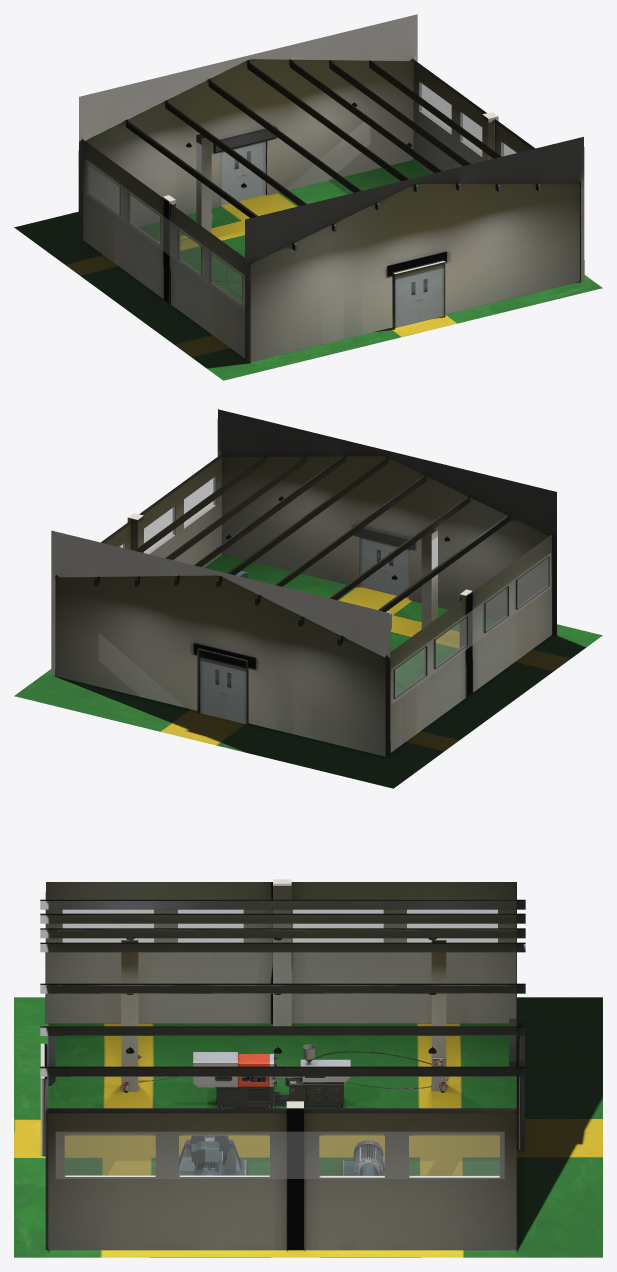
The model's file is S5_Machinery_Optimize.fbx.
The picture shows the model from 3 angles, top to bottom: view 1: azimuth 30°, elevation 25°; view 2: azimuth 150°, elevation 25°; view 3: azimuth 270°, elevation 25°; orthographic projection. The views are drawn at different scales.
Parts seen in each view (by area): view 1: FactoryInside, Floor, Glass; view 2: FactoryInside, Floor, Glass; view 3: FactoryInside, Floor, Glass, Modeling_Bench_1, PropSet_1, Modeling_Bench_2, PropSet_2.
Boxes of the visible parts, box(x1,y1,x2,y2) form: FactoryInside: box(78, 14, 584, 363); Floor: box(14, 160, 602, 380); Glass: box(86, 82, 516, 310); FactoryInside: box(51, 409, 556, 757); Floor: box(14, 554, 602, 788); Glass: box(119, 476, 550, 704); FactoryInside: box(40, 879, 525, 1250); Floor: box(14, 997, 602, 1257); Glass: box(55, 909, 504, 1178); Modeling_Bench_1: box(193, 1052, 350, 1108); PropSet_1: box(122, 1082, 444, 1175); Modeling_Bench_2: box(242, 1076, 343, 1108); PropSet_2: box(126, 938, 448, 1088).
Size of the model in its own units: 3495 by 1292 by 3341.
Materials: 10 (9 with a texture image).
